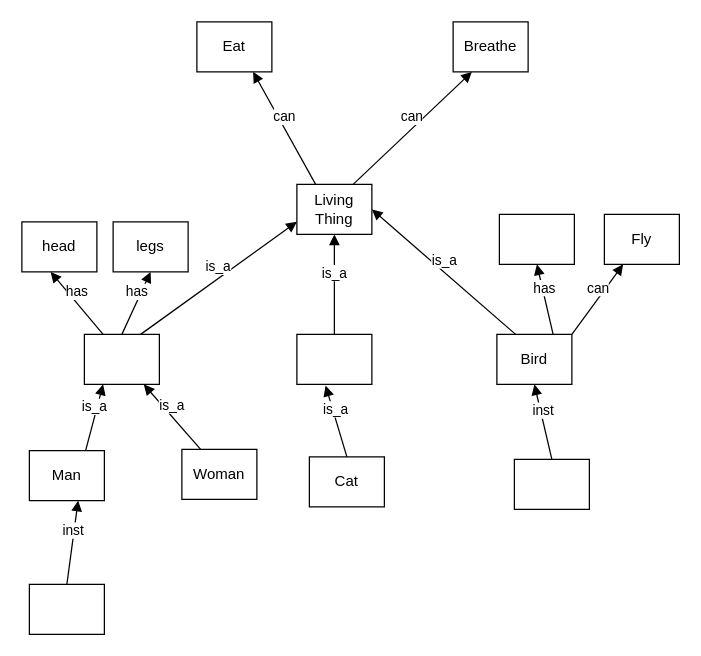
Some shapes in this 701 by 656 pixel diagram are drawn without their labels. The centre of each missing label's shape, as x and y in pixels:
Animal: point 334,358
Feather: point 536,238
Human: point 121,358
John: point 66,608
Parrot: point 551,483
